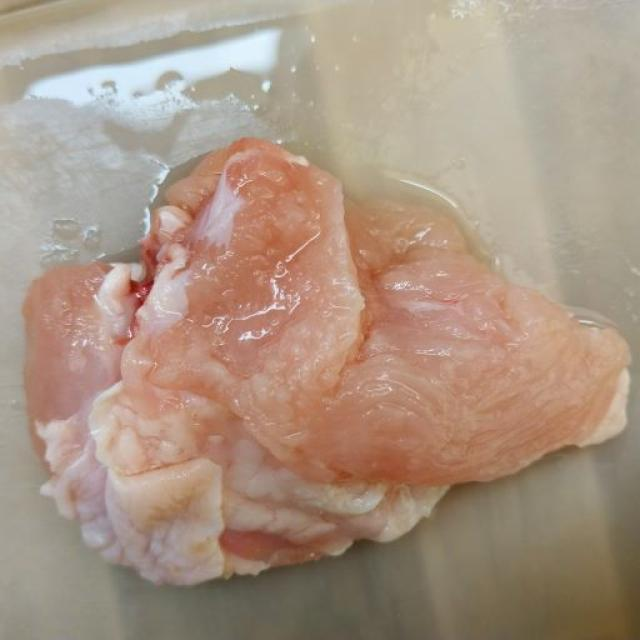chicken: (21, 135, 632, 587)
